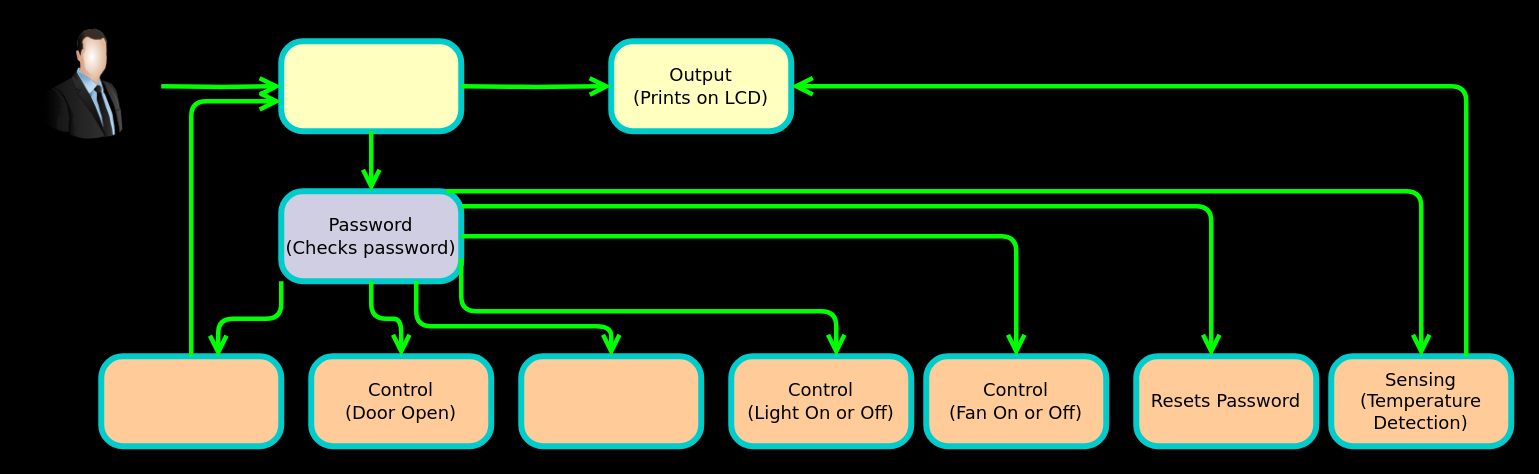
Image size: 1539x474. Some labels were removed from this diagram. The shapes that lost their labels are listed below. From the top down, each one's box as (x1, y1, x2, y2) in pixels, then its label:
(278, 38, 464, 134): Input (Keypad)
(98, 352, 284, 448): Resets System
(518, 352, 704, 448): Control (Door Close)
